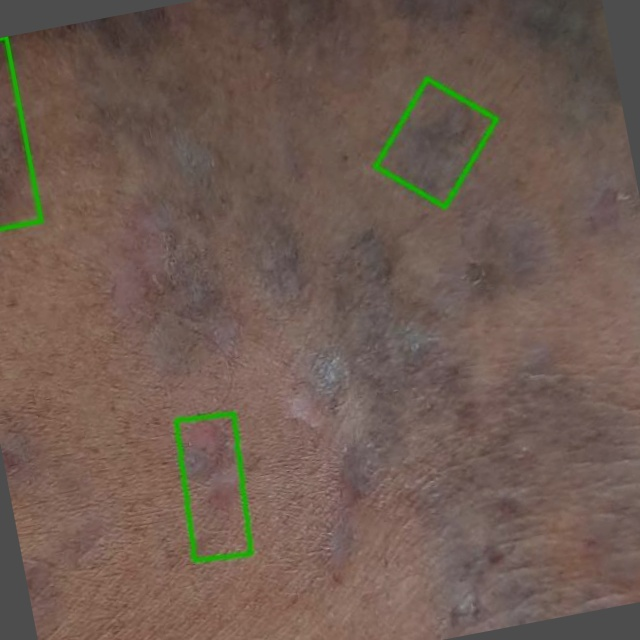Contact Dermatitis: (376, 79, 496, 207), (177, 414, 251, 561)
